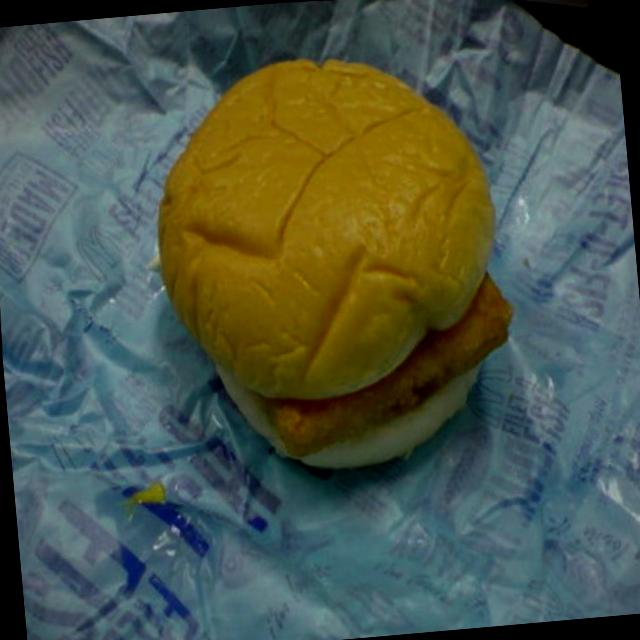Hamburger: (137, 28, 526, 502)
